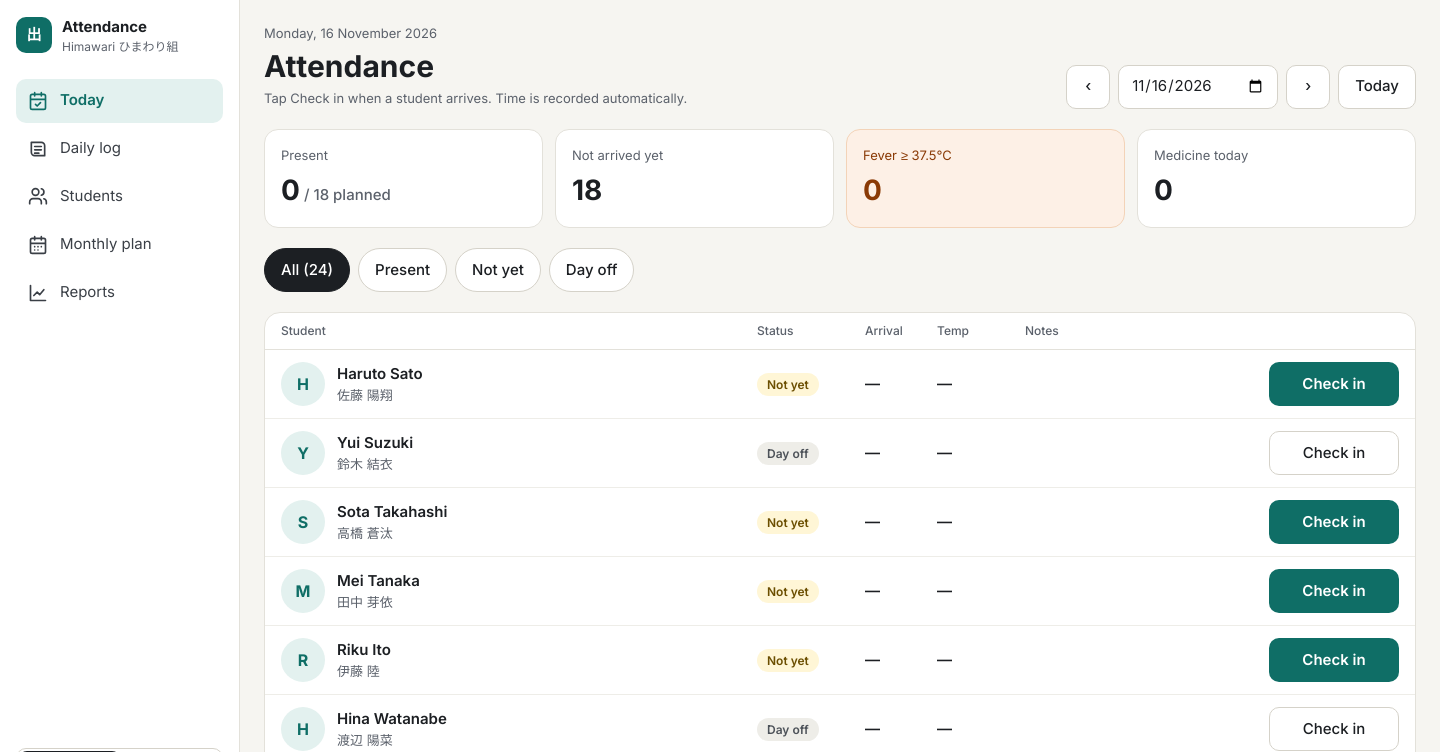
it: Today › filters and checks a student in
Click the button "Present": click(403, 270) x1=358 y1=248 x2=447 y2=292
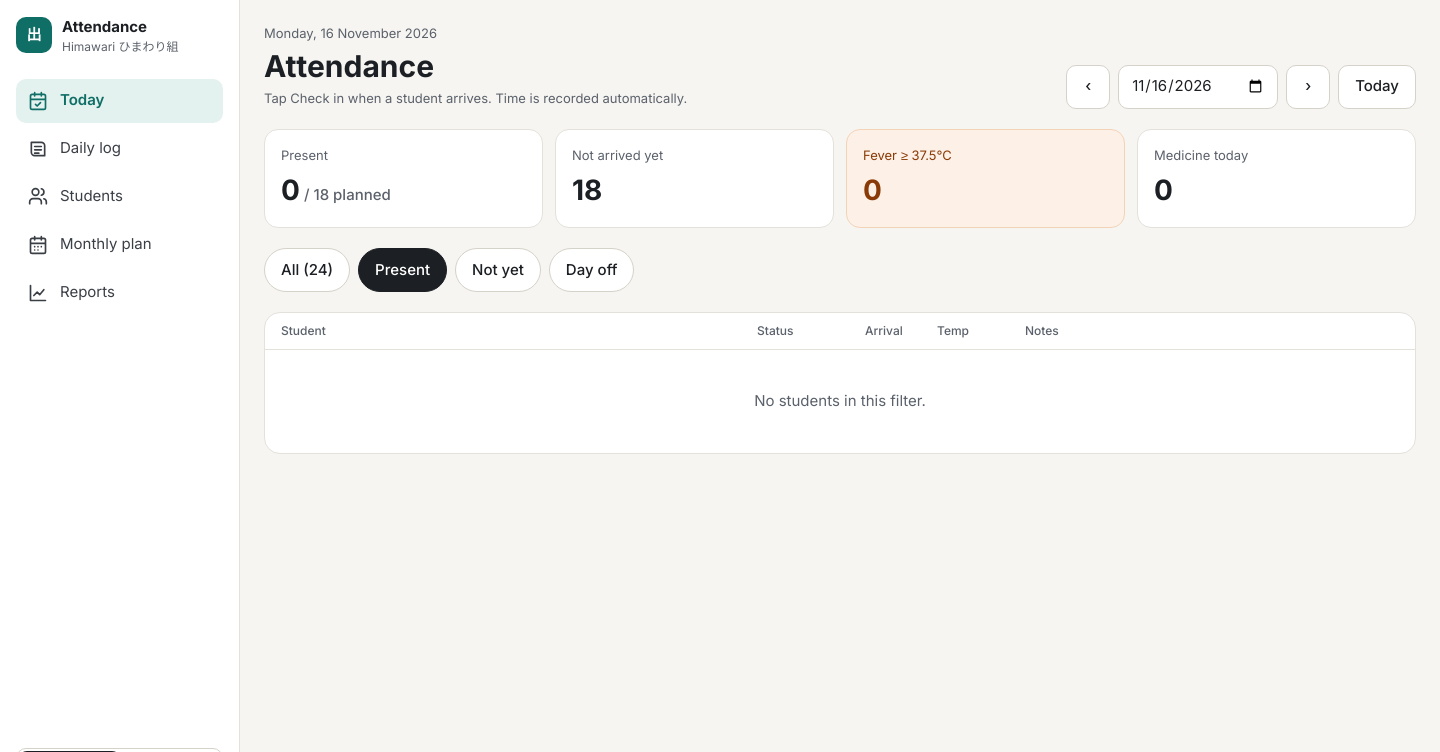
Check: no list items with test id "student-row" are shown
Click the button "All (24)": click(307, 270) x1=264 y1=248 x2=350 y2=292
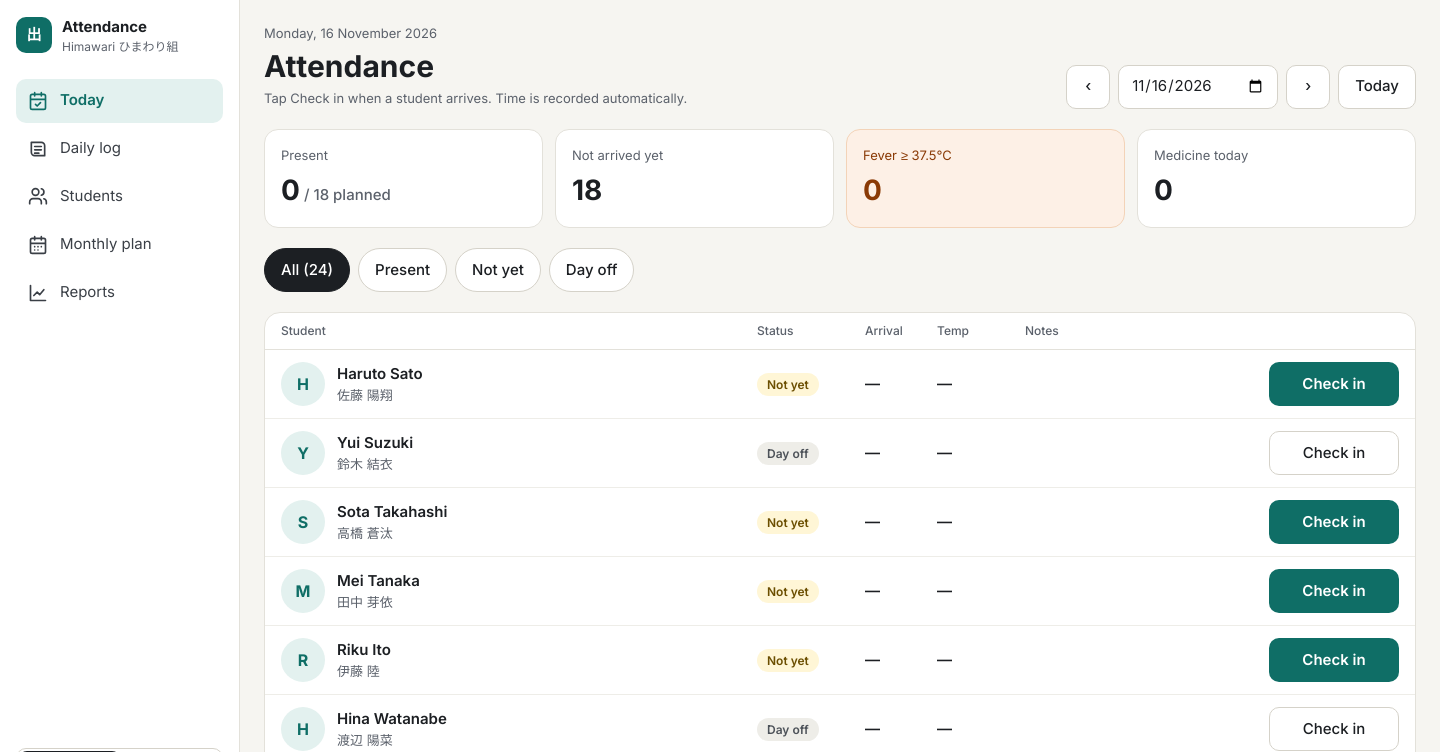
Click the button "Check in" in the row of "Haruto Sato": click(1334, 384) x1=1269 y1=362 x2=1399 y2=406
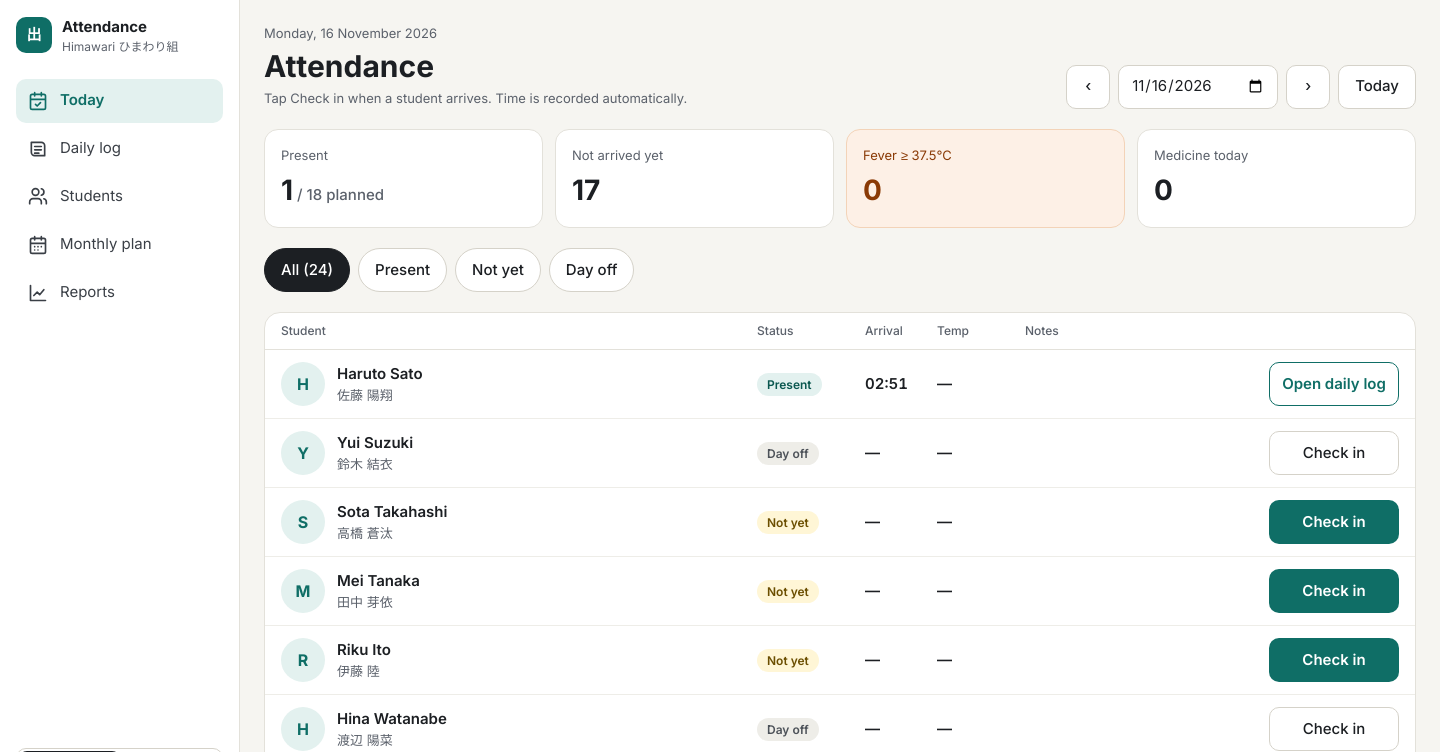
Check: the text "Present" in the row of "Haruto Sato" is shown, box x1=767 y1=377 x2=812 y2=392
Check: the link "Open daily log" is shown, box x1=1269 y1=362 x2=1399 y2=406
